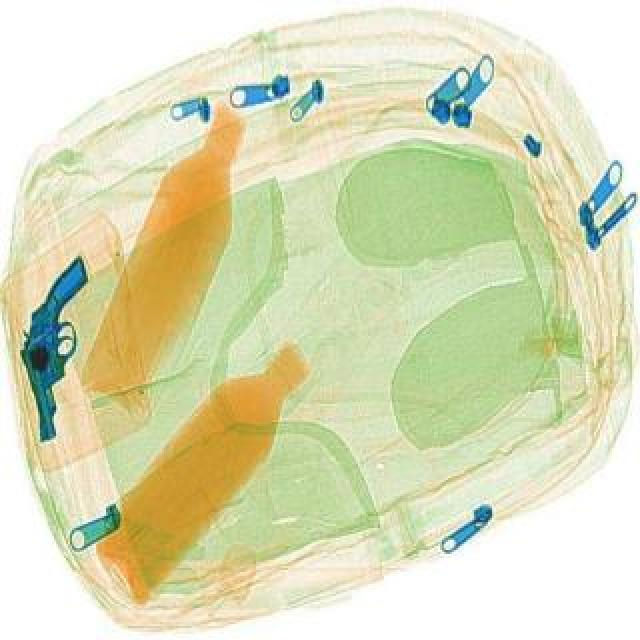gun: (0, 252, 120, 440)
